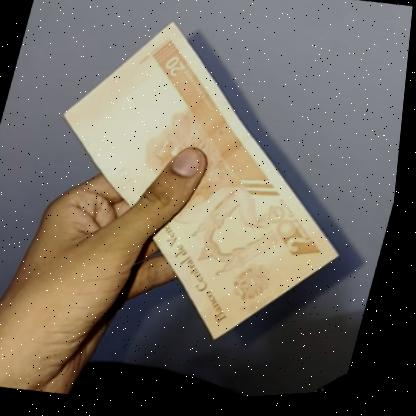twenty-back-vef: (7, 0, 406, 377)
